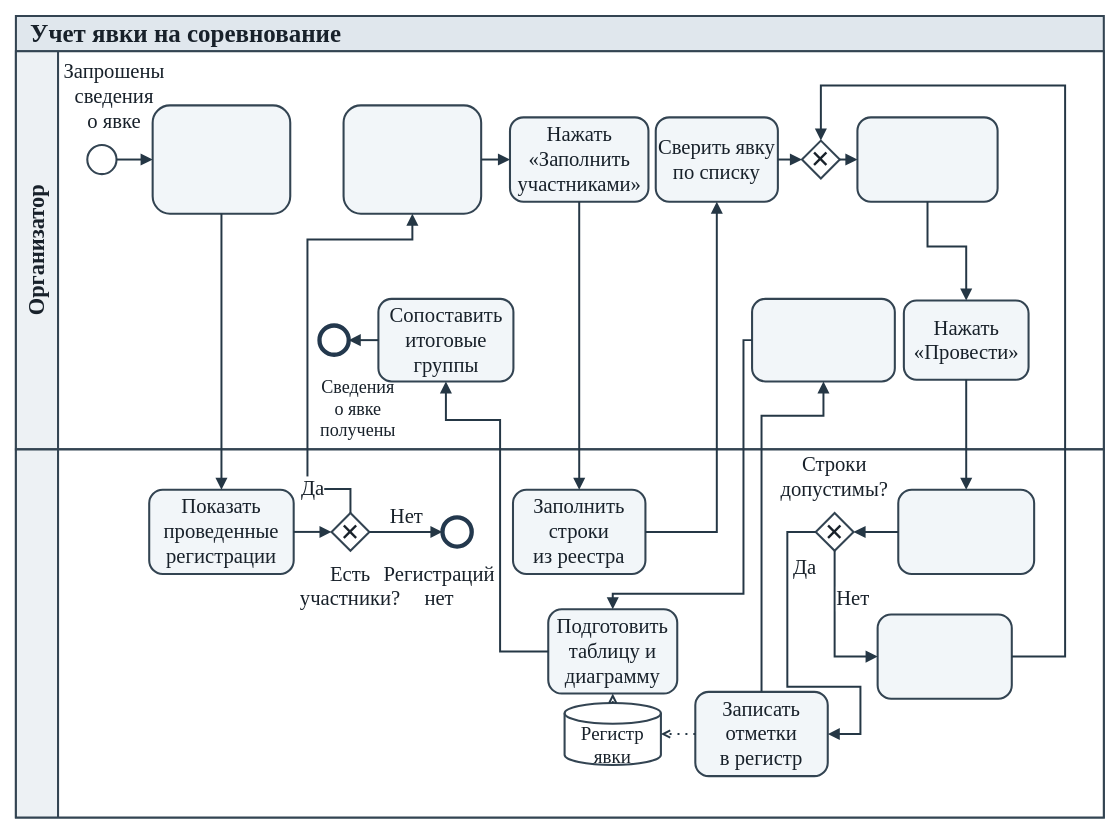
The diagram is 1120 pixels wide and 833 high, and some of its shapes have lost their labels. The box of each missing label's shape, as (x1, y1, x2, y2) in pixels:
Выбрать мероприятие и открыть список: (151, 104, 291, 214)
Проверить строки и регистрации: (897, 488, 1035, 575)
Создать документ явки и выбрать мероприятие: (342, 104, 482, 214)
Сообщить причину отказа: (876, 613, 1012, 699)
Сформировать отчет по старту: (751, 297, 895, 382)
Указать отметки в документе: (856, 116, 998, 202)
Учетная система: (14, 448, 1104, 818)
